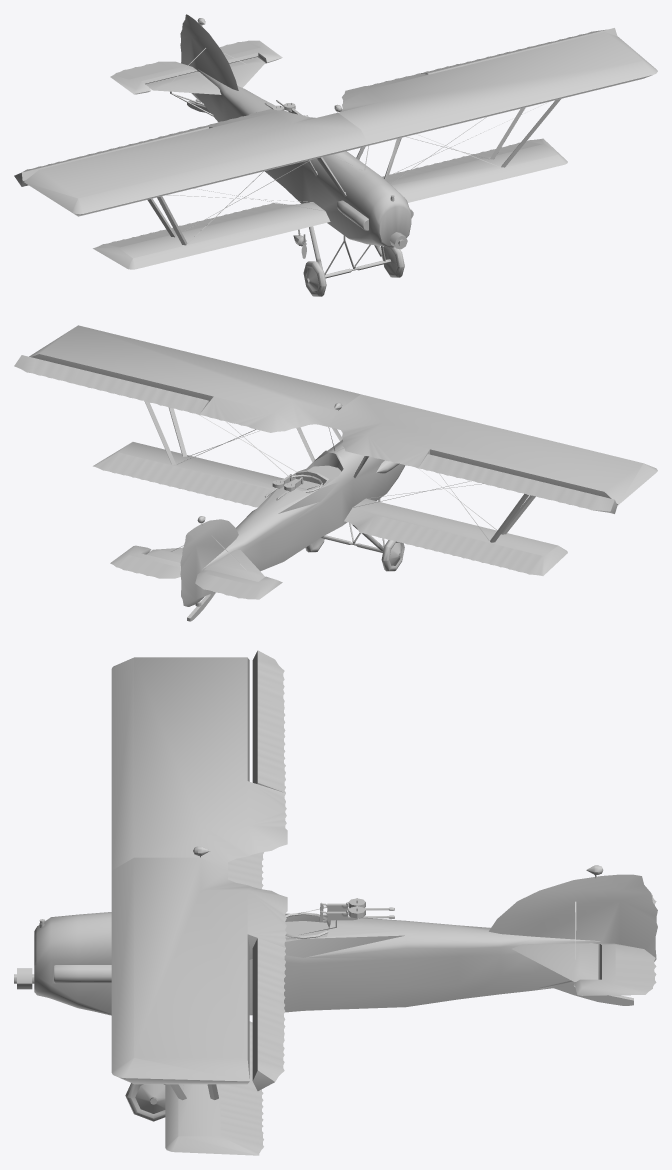
The model's file is potez-25.dae.
3 renders of one model, top to bottom at view 1: azimuth 30°, elevation 25°; view 2: azimuth 150°, elevation 25°; view 3: azimuth 270°, elevation 25°, orthographic. The views are drawn at different scales.
Parts seen in each view (by area): view 1: b'turret',ox=-0.00,oy=6.76,oz=-3.80,p=b'base',; view 2: b'turret',ox=-0.00,oy=6.76,oz=-3.80,p=b'base',; view 3: b'turret',ox=-0.00,oy=6.76,oz=-3.80,p=b'base',.
Part boxes in pixels (x1=…): b'turret',ox=-0.00,oy=6.76,oz=-3.80,p=b'base',: x1=14, y1=14, x2=657, y2=296; b'turret',ox=-0.00,oy=6.76,oz=-3.80,p=b'base',: x1=14, y1=325, x2=657, y2=621; b'turret',ox=-0.00,oy=6.76,oz=-3.80,p=b'base',: x1=14, y1=650, x2=657, y2=1155.
Bounding box in the file's own units: 36.67 × 23.62 × 10.01.
